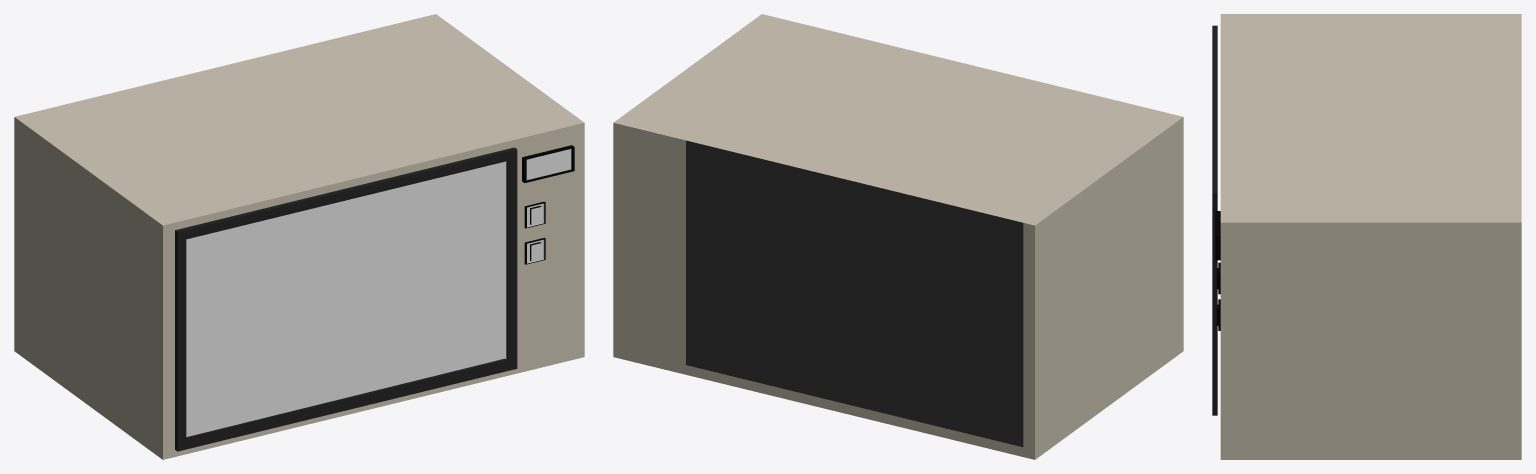
Rendered from Micro.fbx.
The picture shows the model from 3 angles, left to right: view 1: azimuth 30°, elevation 25°; view 2: azimuth 150°, elevation 25°; view 3: azimuth 270°, elevation 25°; orthographic projection.
Visible parts, largest first — view 1: Cube, Window.001; view 2: Cube; view 3: Cube, Window.001.
Part boxes in pixels (left/top/right/bottom): Cube: left=14, top=14, right=584, bottom=459; Window.001: left=175, top=147, right=517, bottom=451; Cube: left=613, top=14, right=1183, bottom=459; Cube: left=1215, top=14, right=1521, bottom=459; Window.001: left=1212, top=25, right=1217, bottom=415.
Bounding box in the file's own units: 200 × 106 × 125.
